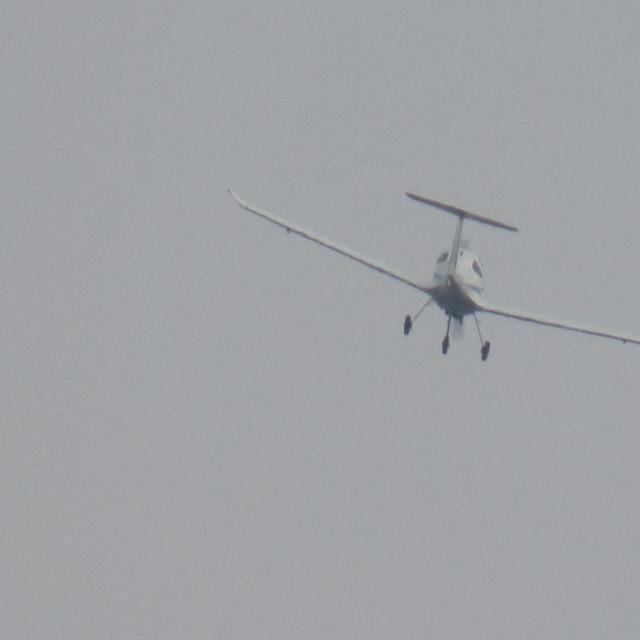iha: (218, 182, 640, 375)
